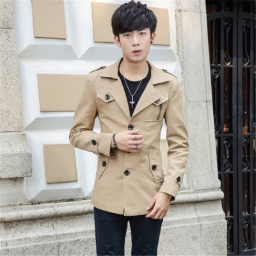face: (111, 1, 158, 65)
